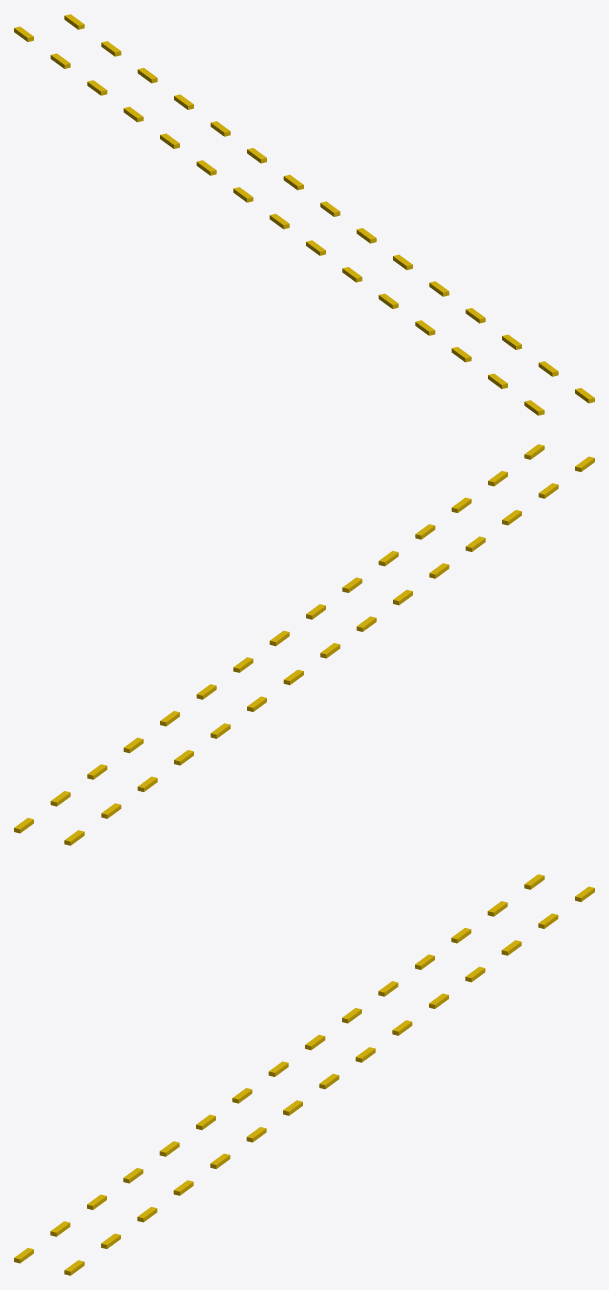
File: poloci.fbx
3 views of the same model, one above another, from view 1: azimuth 30°, elevation 25°; view 2: azimuth 150°, elevation 25°; view 3: azimuth 330°, elevation 25° (orthographic).
Parts seen in each view (by area): view 1: Куб.006; view 2: Куб.006; view 3: Куб.006.
Boxes of the visible parts, box(x1,y1,x2,y2) form: Куб.006: box(14, 14, 594, 415); Куб.006: box(14, 444, 594, 845); Куб.006: box(14, 874, 594, 1275).
Size of the model in its own units: 580 by 40.03 by 9283.
